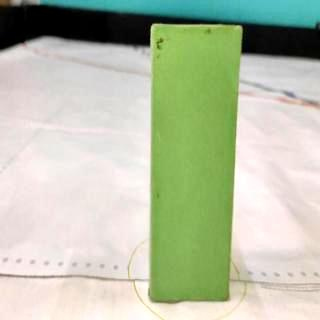greenbox: (146, 23, 234, 303)
